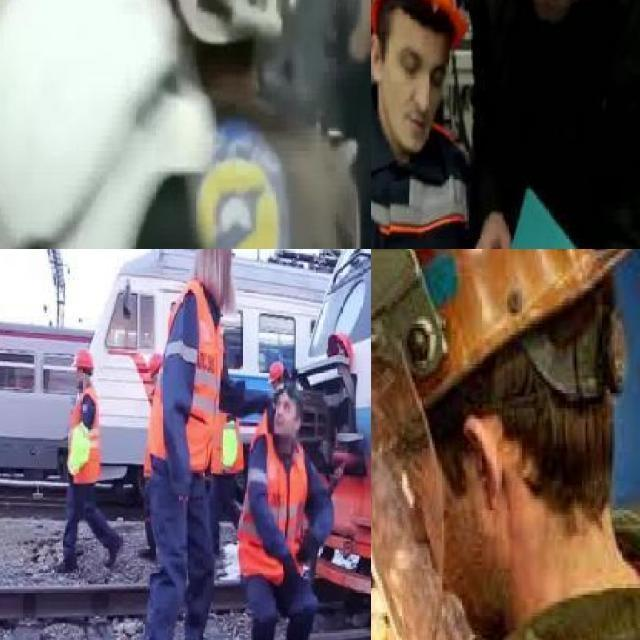apron: (284, 558, 306, 592)
